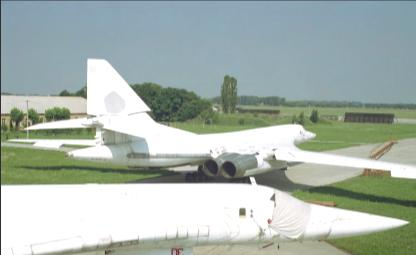Su34: (3, 57, 415, 184), (2, 176, 410, 254)
